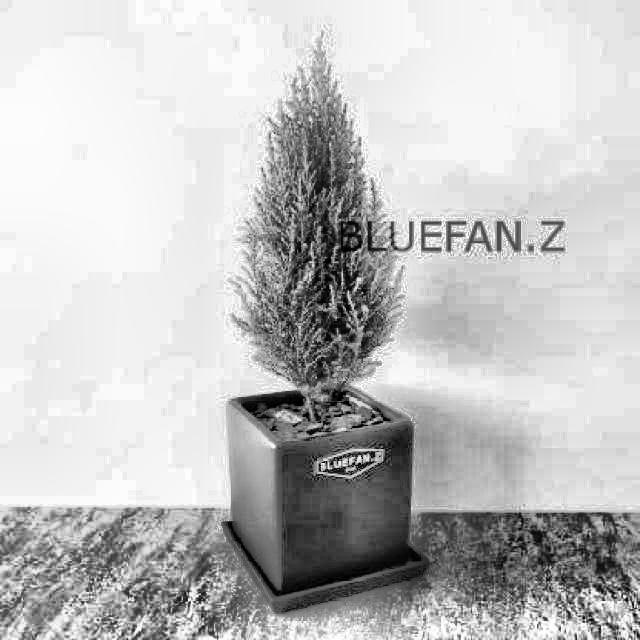plants: (226, 82, 417, 576)
